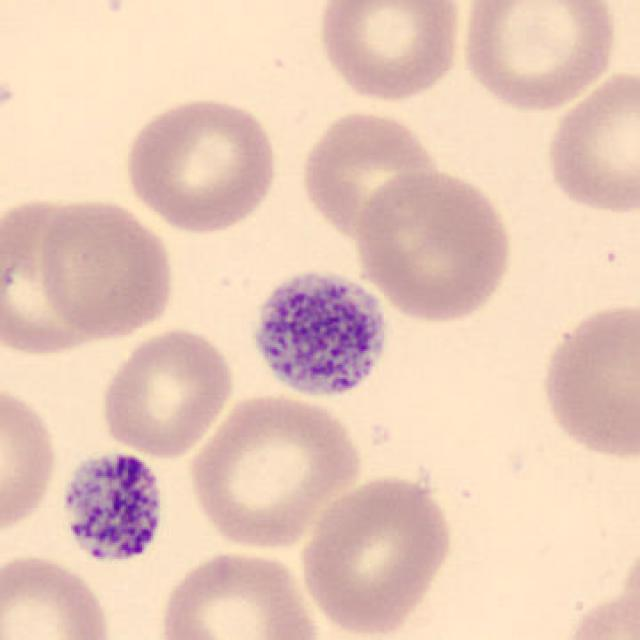Platelets: (242, 264, 396, 406), (53, 446, 171, 570)
RBC: (183, 391, 368, 552), (295, 469, 457, 638), (350, 166, 518, 324), (119, 92, 283, 236), (34, 194, 178, 342), (295, 106, 445, 240), (96, 323, 238, 460), (457, 0, 620, 115), (0, 192, 108, 359), (535, 296, 640, 464), (314, 0, 466, 106), (152, 546, 323, 640), (540, 65, 638, 219), (0, 550, 117, 640), (0, 376, 62, 541), (556, 587, 640, 640)
